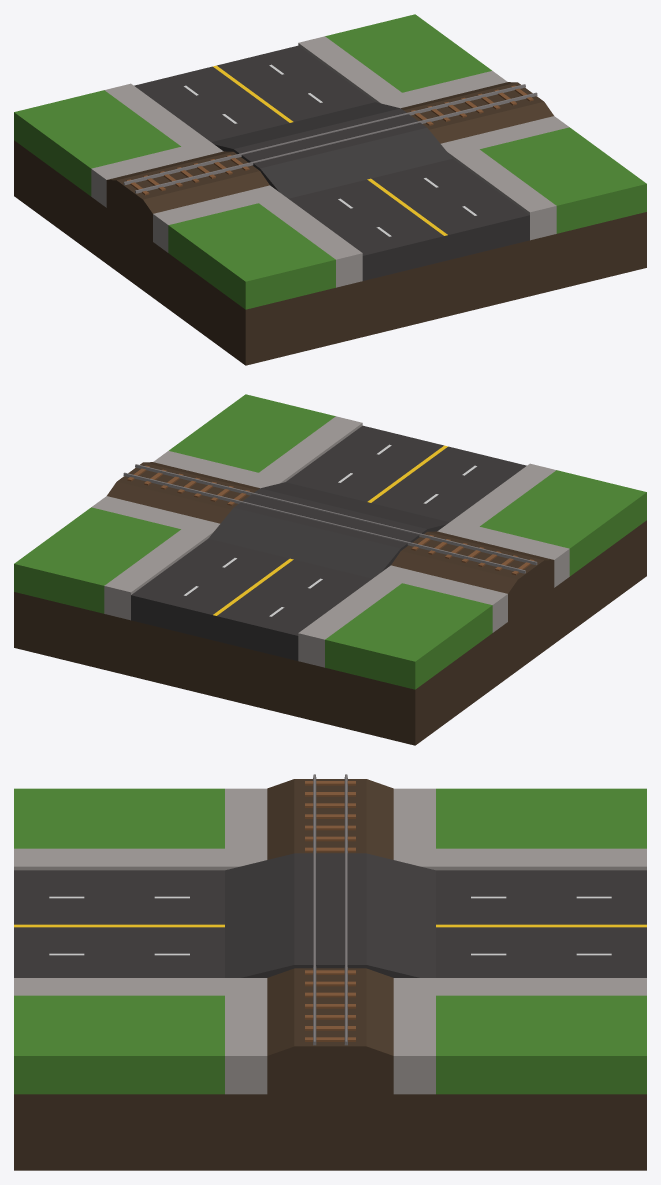
Rendered from tile-rail-mainroad-crossing.glb.
3 views of the same model, one above another, from view 1: azimuth 30°, elevation 25°; view 2: azimuth 150°, elevation 25°; view 3: azimuth 270°, elevation 25° (orthographic). The views are drawn at different scales.
Visible parts, largest first — view 1: tile-rail-mainroad-crossing; view 2: tile-rail-mainroad-crossing; view 3: tile-rail-mainroad-crossing.
Boxes of the visible parts, <box> form: tile-rail-mainroad-crossing: <box>14,14,646,365</box>; tile-rail-mainroad-crossing: <box>14,394,646,745</box>; tile-rail-mainroad-crossing: <box>14,774,646,1170</box>.
Size of the model in its own units: 30 by 6.75 by 30.
Materials: 1 (1 with a texture image).
